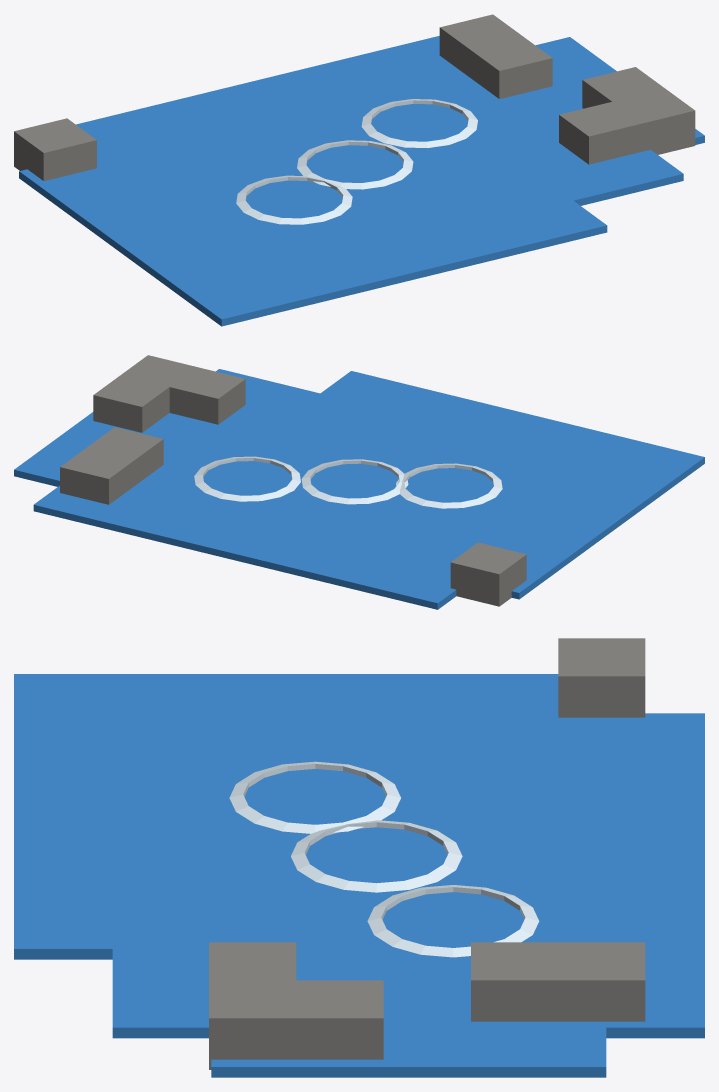
The model's file is puddle-water-pixor-blocky.glb.
3 views of the same model, one above another, from view 1: azimuth 30°, elevation 25°; view 2: azimuth 150°, elevation 25°; view 3: azimuth 270°, elevation 25° (orthographic). The views are drawn at different scales.
Visible parts, largest first — view 1: Puddle water, Puddle pebbles, Puddle ripples; view 2: Puddle water, Puddle pebbles, Puddle ripples; view 3: Puddle water, Puddle pebbles, Puddle ripples.
Part boxes in pixels (x1,y1,x2,y2): Puddle water: [19, 36, 704, 326]; Puddle pebbles: [14, 14, 695, 180]; Puddle ripples: [236, 99, 477, 224]; Puddle water: [14, 369, 704, 609]; Puddle pebbles: [60, 355, 526, 606]; Puddle ripples: [194, 456, 502, 508]; Puddle water: [14, 674, 704, 1077]; Puddle pebbles: [209, 638, 645, 1069]; Puddle ripples: [229, 761, 539, 957].
Size of the model in its own units: 1.21 by 0.0743 by 0.9007.
